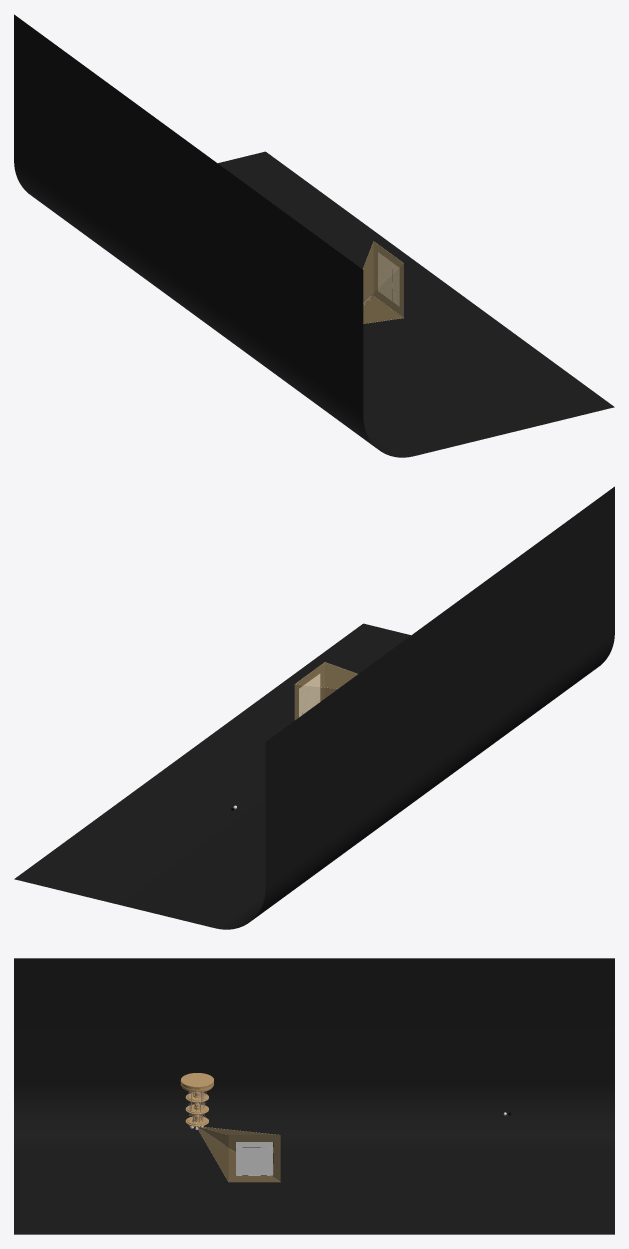
File: quantum.glb
3 renders of one model, top to bottom at view 1: azimuth 30°, elevation 25°; view 2: azimuth 150°, elevation 25°; view 3: azimuth 270°, elevation 25°, orthographic. The views are drawn at different scales.
Visible parts, largest first — view 1: Plane, Callout, Plane.031; view 2: Plane, Callout, Plane.031; view 3: Plane, Callout, Plane.031, Computer Base.
Part boxes in pixels (x1,y1,x2,y2): Plane: (14,14,614,457); Callout: (363,241,403,323); Plane.031: (378,252,399,306); Plane: (14,486,614,929); Callout: (295,662,357,719); Plane.031: (299,674,320,716); Plane: (14,958,614,1234); Callout: (197,1126,280,1181); Plane.031: (236,1142,273,1175); Computer Base: (180,1073,213,1126).
Bounding box in the file's own units: 15.97 × 12.05 × 38.4.
12 materials, 6 textured.
